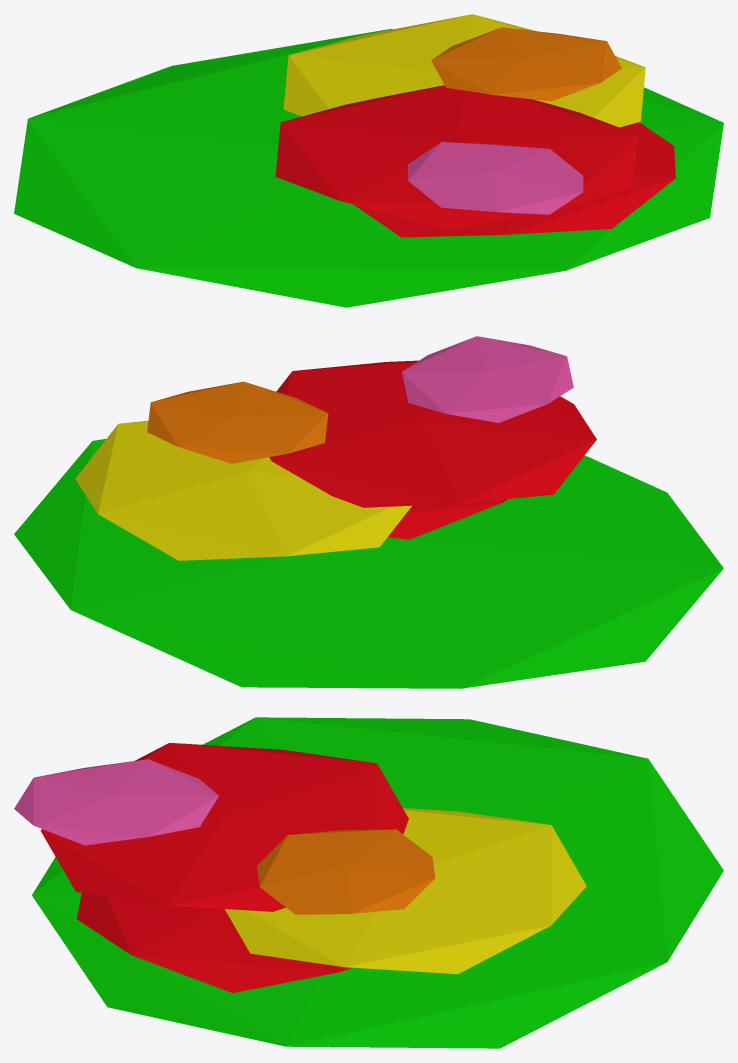
The model's file is coralDisks.fbx.
3 renders of one model, top to bottom at view 1: azimuth 30°, elevation 25°; view 2: azimuth 150°, elevation 25°; view 3: azimuth 270°, elevation 25°, orthographic. The views are drawn at different scales.
Parts seen in each view (by area): view 1: 1coralDisks; view 2: 1coralDisks; view 3: 1coralDisks.
Part boxes in pixels (<box>): 1coralDisks: <box>14,14,723,307</box>; 1coralDisks: <box>14,336,723,688</box>; 1coralDisks: <box>14,717,723,1048</box>.
Size of the model in its own units: 20.14 by 3.11 by 18.4.
